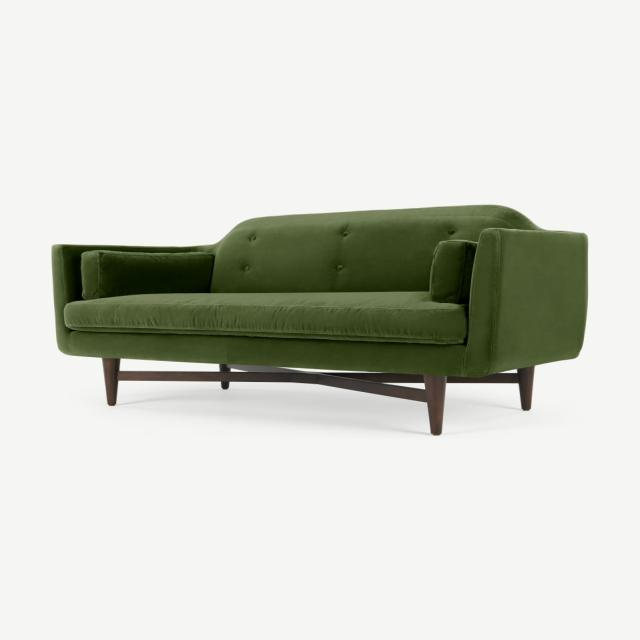Soffa: (47, 202, 580, 426)
